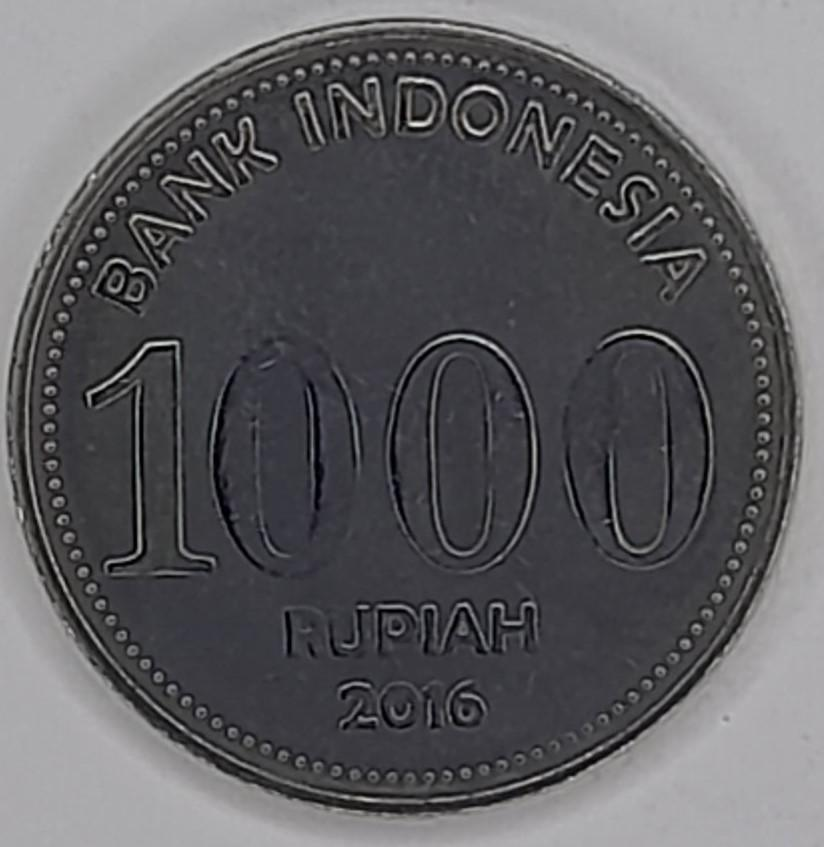coin_1000_e2016: (14, 17, 813, 847)
